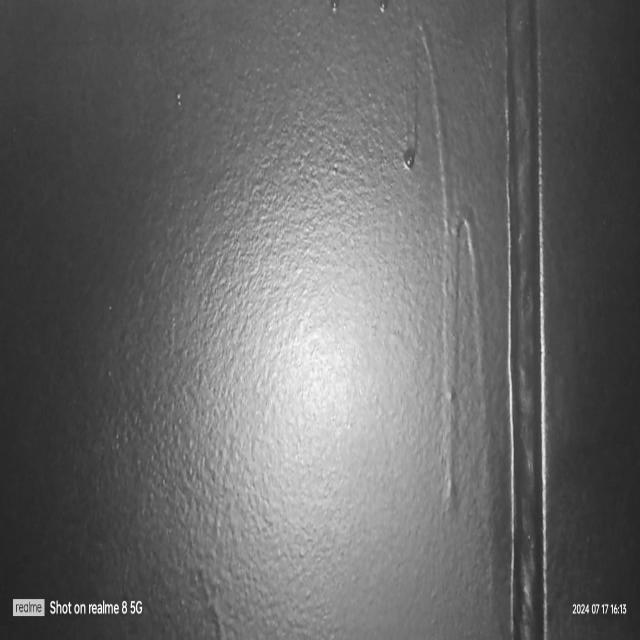paint drips: (402, 4, 502, 638), (324, 0, 394, 25)
